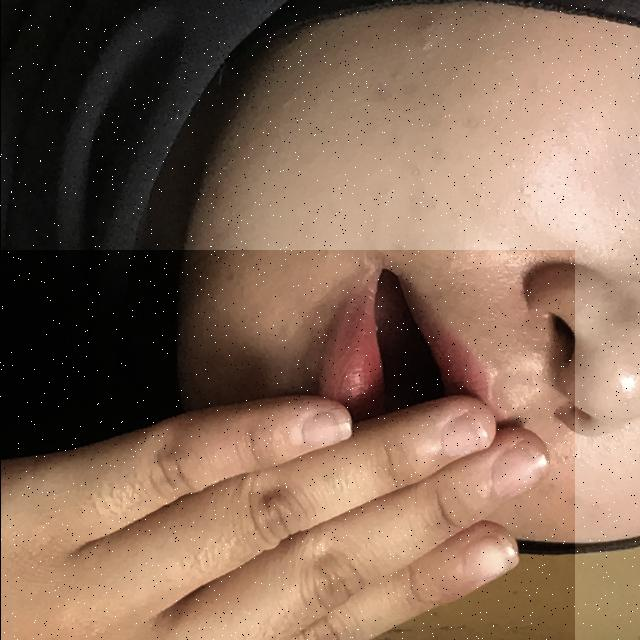ngantuk: (0, 250, 574, 640)
